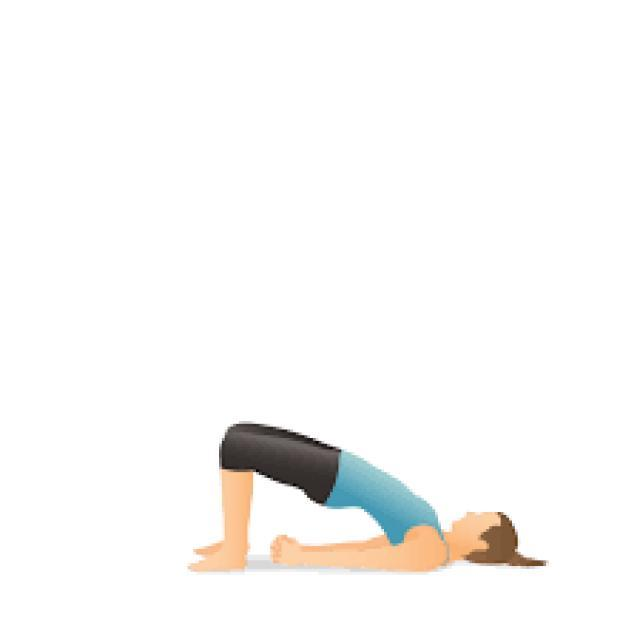yoga-pose bridge: (202, 414, 547, 584)
